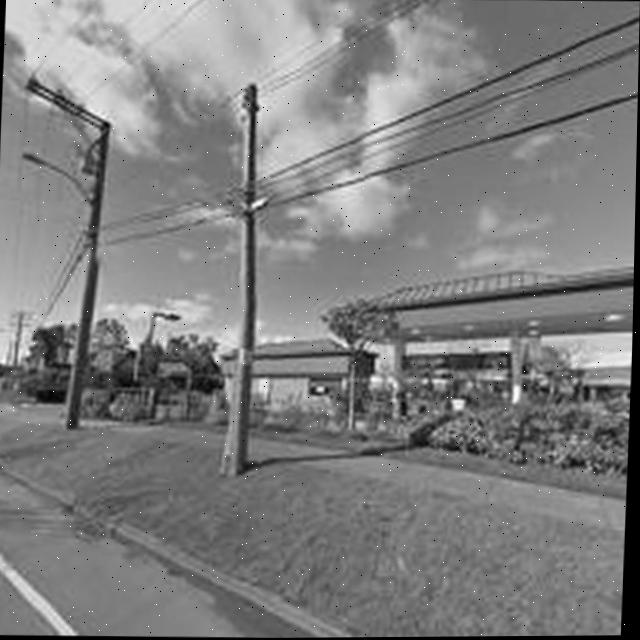building: (365, 262, 634, 434), (219, 332, 377, 426)
